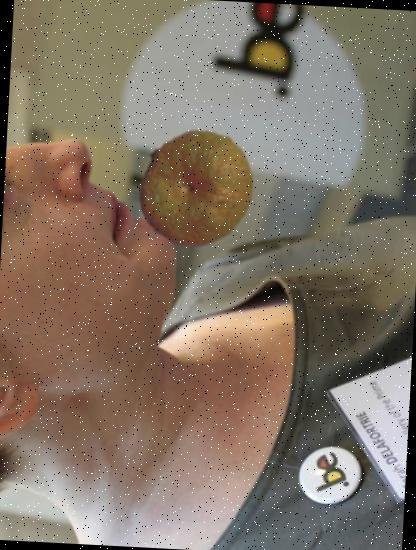Mandarine: (132, 123, 260, 252)
